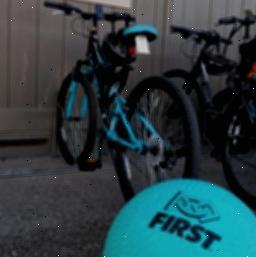algae: (102, 177, 256, 257)
